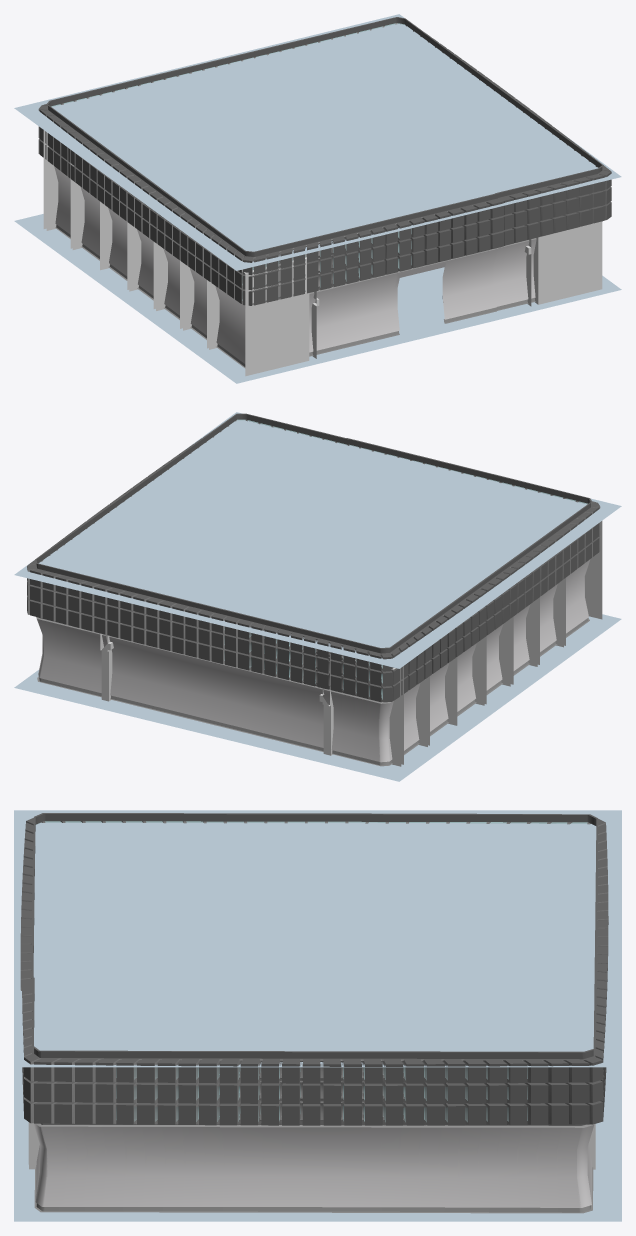
The model's file is m_SmallRoom_1_Cellblock.fbx.
3 renders of one model, top to bottom at view 1: azimuth 30°, elevation 25°; view 2: azimuth 150°, elevation 25°; view 3: azimuth 270°, elevation 25°, orthographic. The views are drawn at different scales.
Visible parts, largest first — view 1: m_room.001, m_Cellblock.002, m_cellblock.001; view 2: m_room.001, m_Cellblock.002, m_cellblock.001; view 3: m_room.001, m_cellblock.001.
Part boxes in pixels (box(x1,y1,x2,y2)): m_room.001: box(14, 14, 621, 383); m_Cellblock.002: box(43, 130, 319, 376); m_cellblock.001: box(524, 221, 602, 306); m_room.001: box(14, 412, 621, 781); m_Cellblock.002: box(319, 521, 602, 766); m_cellblock.001: box(100, 633, 113, 701); m_room.001: box(14, 810, 621, 1221); m_cellblock.001: box(28, 1122, 595, 1169).
Bounding box in the file's own units: 1515 × 453 × 1515.
